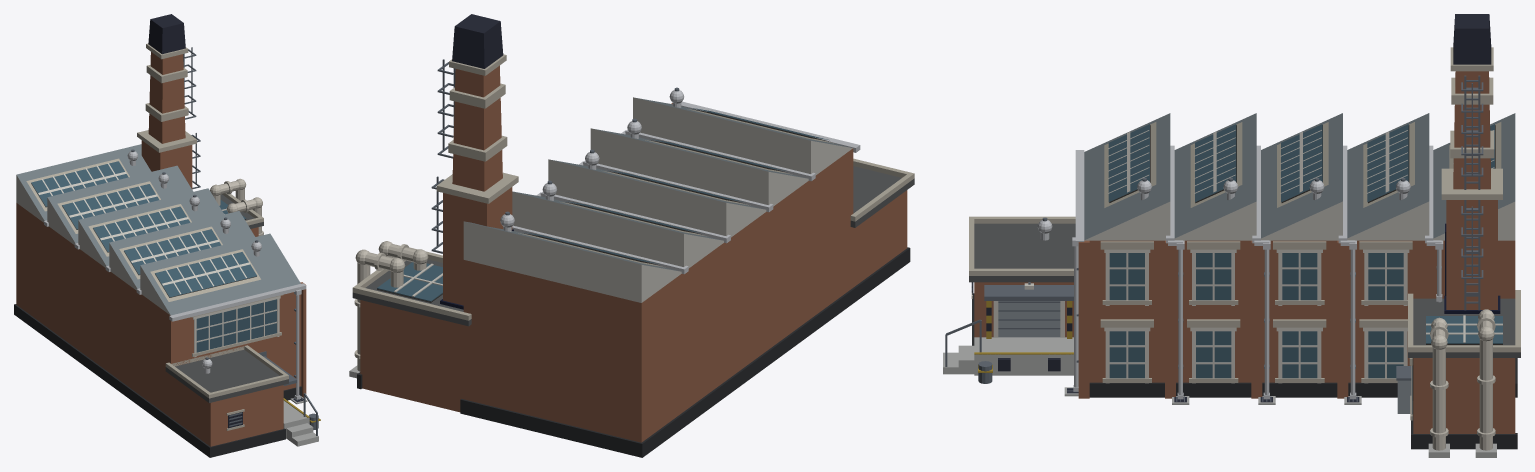
Rendered from industrial_factory_lvl3.glb.
The picture shows the model from 3 angles, left to right: view 1: azimuth 30°, elevation 25°; view 2: azimuth 150°, elevation 25°; view 3: azimuth 270°, elevation 25°; orthographic projection. The views are drawn at different scales.
Visible parts, largest first — view 1: industrial_factory, industrial_factory_Glass; view 2: industrial_factory, industrial_factory_Glass; view 3: industrial_factory, industrial_factory_Glass.
Part boxes in pixels (x1,y1,x2,y2): industrial_factory: [14, 14, 320, 457]; industrial_factory_Glass: [31, 161, 276, 352]; industrial_factory: [349, 14, 914, 457]; industrial_factory_Glass: [377, 108, 829, 301]; industrial_factory: [943, 14, 1520, 457]; industrial_factory_Glass: [1108, 124, 1502, 413].
Size of the model in its own units: 0.6223 by 0.7239 by 1.
